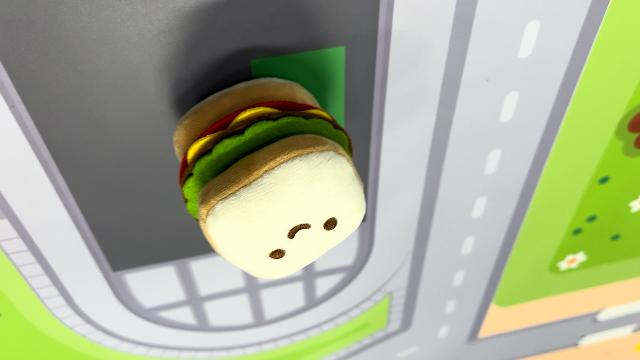sandwich: (170, 75, 368, 282)
